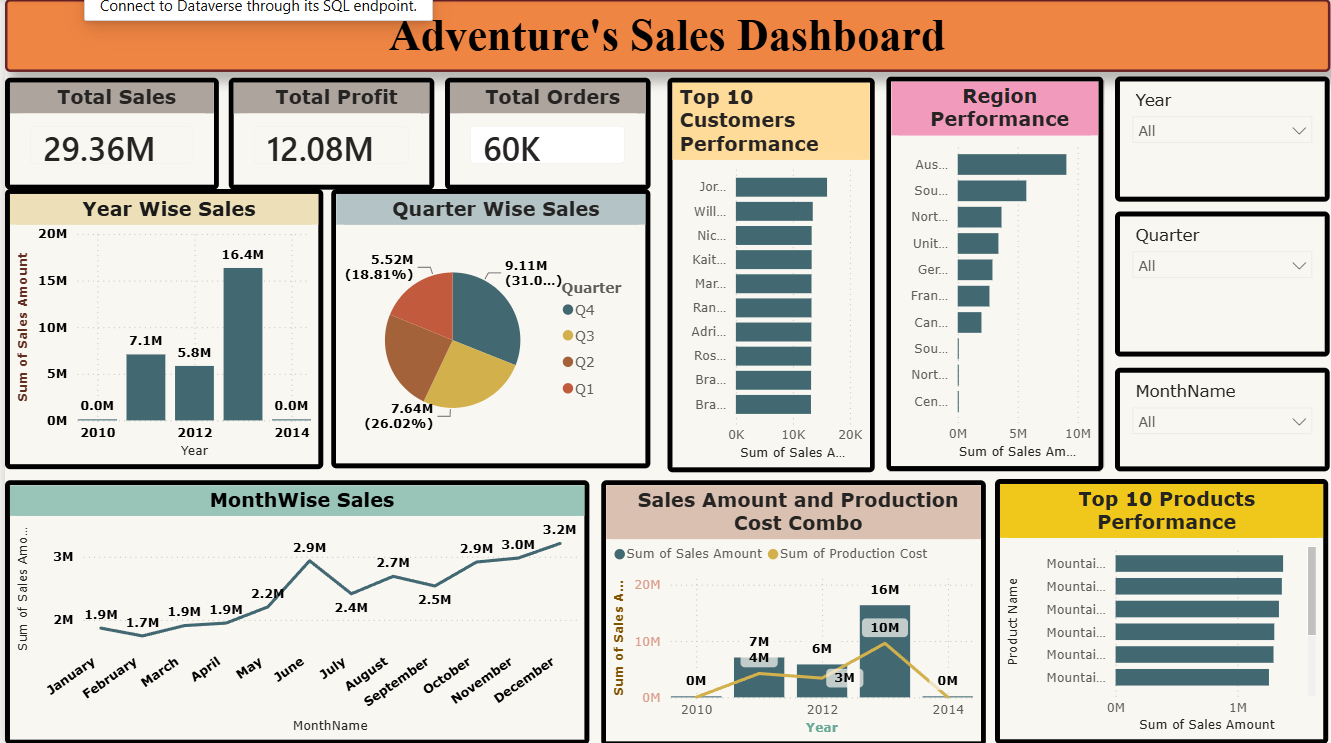

The dashboard page shown, as its layout file describes it:
{"tool":"powerbi","page":{"name":"Dashboard","canvas":[1280,720],"ordinal":6},"visuals":[{"type":"textbox","box":[0,0,1279.4,70.6],"z":0},{"type":"clusteredColumnChart","title":"Year Wise Sales","fields":{"Category":["SALES.Year"],"Y":["Sum(SALES.Sales Amount)"]},"box":[0,182.9,307.3,270.7],"z":1000},{"type":"lineChart","title":"MonthWise Sales","fields":{"Category":["SALES.MonthName"],"Y":["Sum(SALES.Sales Amount)"]},"box":[0,463.9,563.9,255.6],"z":2000},{"type":"pieChart","title":"Quarter Wise Sales","fields":{"Category":["SALES.Quarter"],"Y":["Sum(SALES.Sales Amount)"]},"box":[315.3,183.3,308.3,269.4],"z":3000},{"type":"lineClusteredColumnComboChart","title":"Sales Amount and Production Cost Combo","fields":{"Category":["SALES.Year"],"Y":["Sum(SALES.Sales Amount)"],"Y2":["Sum(SALES.Production Cost)"]},"box":[575,463.9,370.8,256.9],"z":4000},{"type":"clusteredBarChart","title":" Top 10 Products Performance","fields":{"Category":["SALES.Product Name"],"Y":["Sum(SALES.Sales Amount)"]},"box":[956.1,463.4,322,256.1],"z":5000},{"type":"clusteredBarChart","title":" Top 10 Customers Performance","fields":{"Category":["SALES.Customer Full Name"],"Y":["Sum(SALES.Sales Amount)"]},"box":[639,75.6,200,380.5],"z":6000},{"type":"clusteredBarChart","title":"Region Performance","fields":{"Category":["DimSalesTerritory.SalesTerritoryRegion"],"Y":["Sum(SALES.Sales Amount)"]},"box":[850,75,209.7,380.6],"z":7000},{"type":"slicer","fields":{"Values":["SALES.Date.Variation.Date Hierarchy.Year"]},"box":[1070.8,75,206.9,120.8],"z":8000},{"type":"slicer","fields":{"Values":["SALES.MonthName"]},"box":[1070.8,355.6,206.9,100],"z":9000},{"type":"slicer","fields":{"Values":["SALES.Quarter"]},"box":[1070.8,205.6,206.9,140.3],"z":10000},{"type":"cardVisual","title":"Total Sales","fields":{"Data":["Sum(SALES.Sales Amount)"]},"box":[0,75.8,206.3,107.7],"z":11000},{"type":"cardVisual","title":"Total Profit","fields":{"Data":["Sum(SALES.Profit)"]},"box":[215.4,75.8,198.7,107.7],"z":12000},{"type":"cardVisual","title":"Total Orders","fields":{"Data":["Sum(SALES.OrderQuantity)"]},"box":[424.6,75.8,198.7,107.7],"z":13000}]}

Visuals, with their boxes in screenshot pixels (x1, y1, x2, y2):
textbox: box(21, 0, 1321, 72)
"Year Wise Sales" clusteredColumnChart: box(21, 186, 333, 461)
"MonthWise Sales" lineChart: box(21, 471, 594, 731)
"Quarter Wise Sales" pieChart: box(341, 186, 654, 460)
"Sales Amount and Production Cost Combo" lineClusteredColumnComboChart: box(605, 471, 982, 732)
" Top 10 Products Performance" clusteredBarChart: box(992, 471, 1319, 731)
" Top 10 Customers Performance" clusteredBarChart: box(670, 77, 873, 463)
"Region Performance" clusteredBarChart: box(884, 76, 1097, 463)
slicer - SALES.Date.Variation.Date Hierarchy.Year: box(1109, 76, 1319, 199)
slicer - SALES.MonthName: box(1109, 361, 1319, 463)
slicer - SALES.Quarter: box(1109, 209, 1319, 351)
"Total Sales" cardVisual: box(21, 77, 230, 186)
"Total Profit" cardVisual: box(240, 77, 442, 186)
"Total Orders" cardVisual: box(452, 77, 654, 186)
